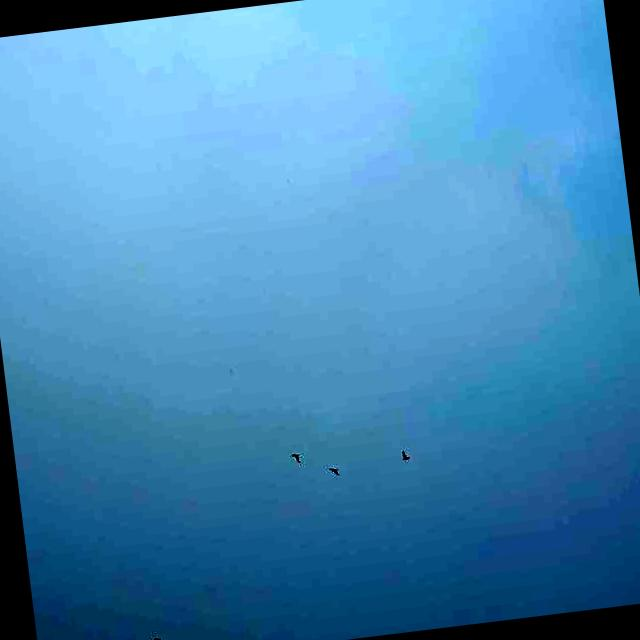bird: (395, 442, 417, 470), (288, 446, 307, 472), (326, 457, 344, 482), (148, 629, 167, 640)
